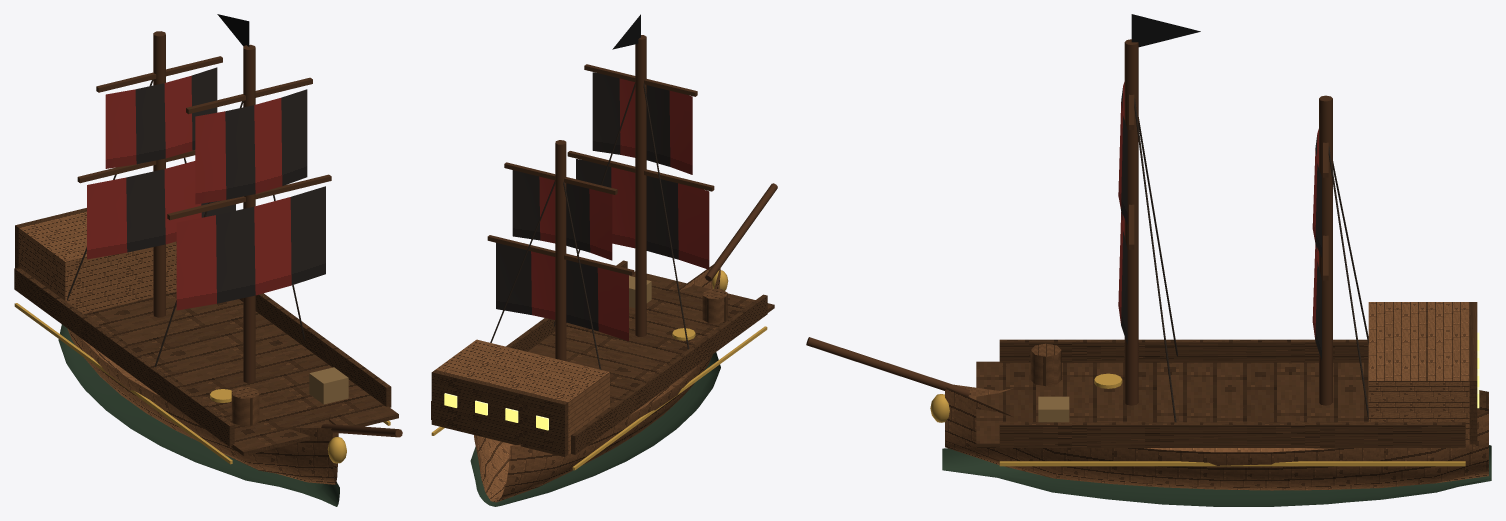
File: barco.glb
3 views of the same model, side by side, from view 1: azimuth 30°, elevation 25°; view 2: azimuth 150°, elevation 25°; view 3: azimuth 270°, elevation 25° (orthographic). The views are drawn at different scales.
Parts seen in each view (by area): view 1: barco; view 2: barco; view 3: barco.
Boxes of the visible parts, left/top/right/bottom form: barco: left=14, top=14, right=402, bottom=506; barco: left=431, top=14, right=777, bottom=506; barco: left=806, top=14, right=1491, bottom=506.
Size of the model in its own units: 2.71 by 6.62 by 8.82.
Materials: 11 (4 with a texture image).
